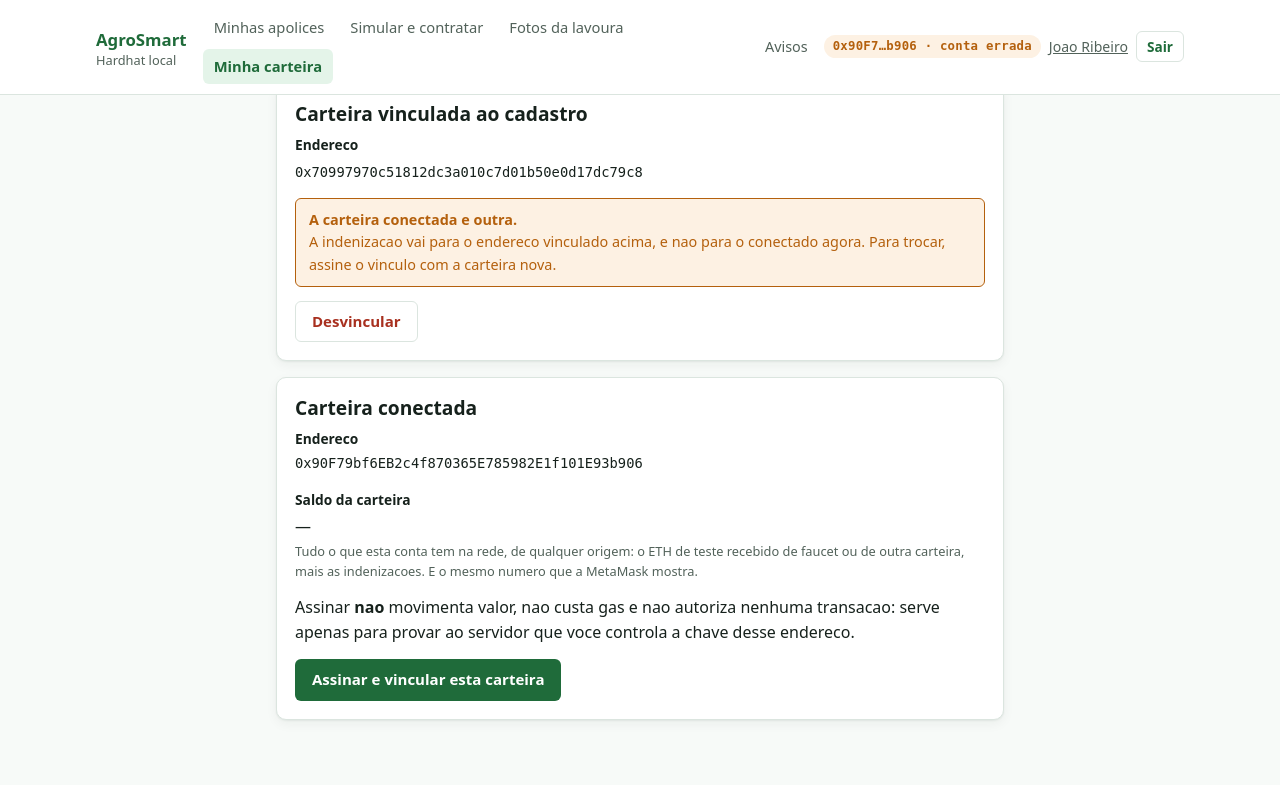
minha carteira (RF02, HU07) › vincula assinando o desafio do servidor, sem expor a chave
(page scrolled)
Check: the text "A carteira conectada e outra." is shown, box [309,210,517,229]
What coordinates should you click on to do the following:
click the button "Assinar e vincular esta carteira"
I would click on:
 (428, 680)
Its box is [295,659,562,701].
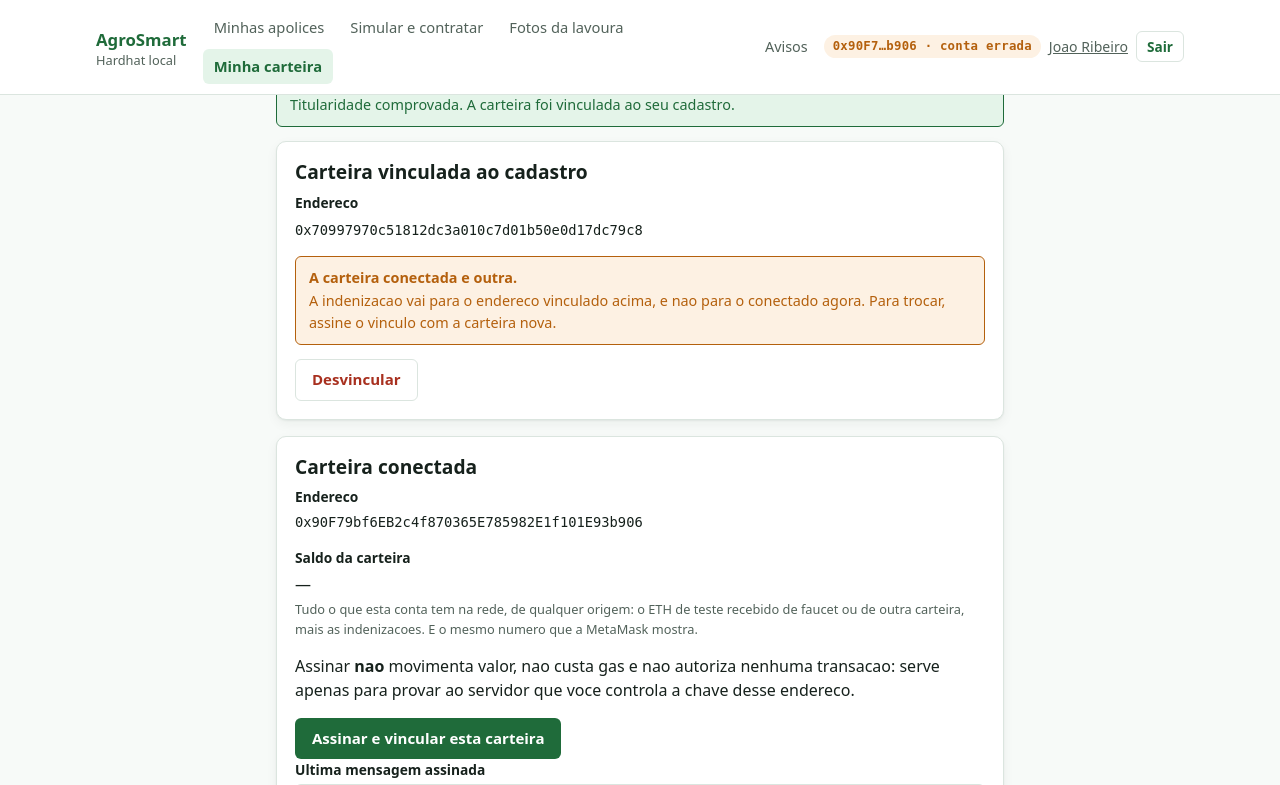
Check: the text "Titularidade comprovada. A carteira foi vinculada ao seu cadastro." is shown, box [276,83,1004,127]
